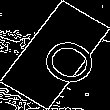O_NW: (17, 23, 93, 87)
